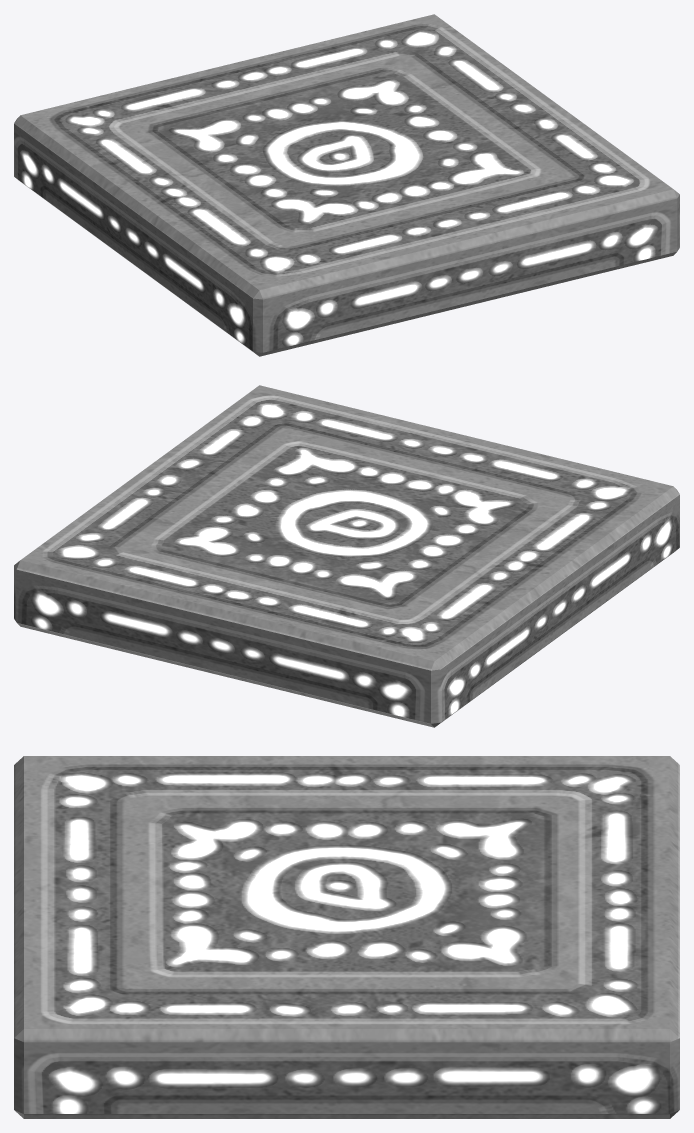
File: Asset_platform_TEST_01.fbx
The picture shows the model from 3 angles, top to bottom: view 1: azimuth 30°, elevation 25°; view 2: azimuth 150°, elevation 25°; view 3: azimuth 270°, elevation 25°; orthographic projection. The views are drawn at different scales.
Visible parts, largest first — view 1: pCube1; view 2: pCube1; view 3: pCube1.
Boxes of the visible parts, left/top/right/bottom form: pCube1: left=14, top=14, right=679, bottom=356; pCube1: left=14, top=385, right=679, bottom=727; pCube1: left=14, top=756, right=679, bottom=1118.
Bounding box in the file's own units: 6.72 × 1 × 6.72.
